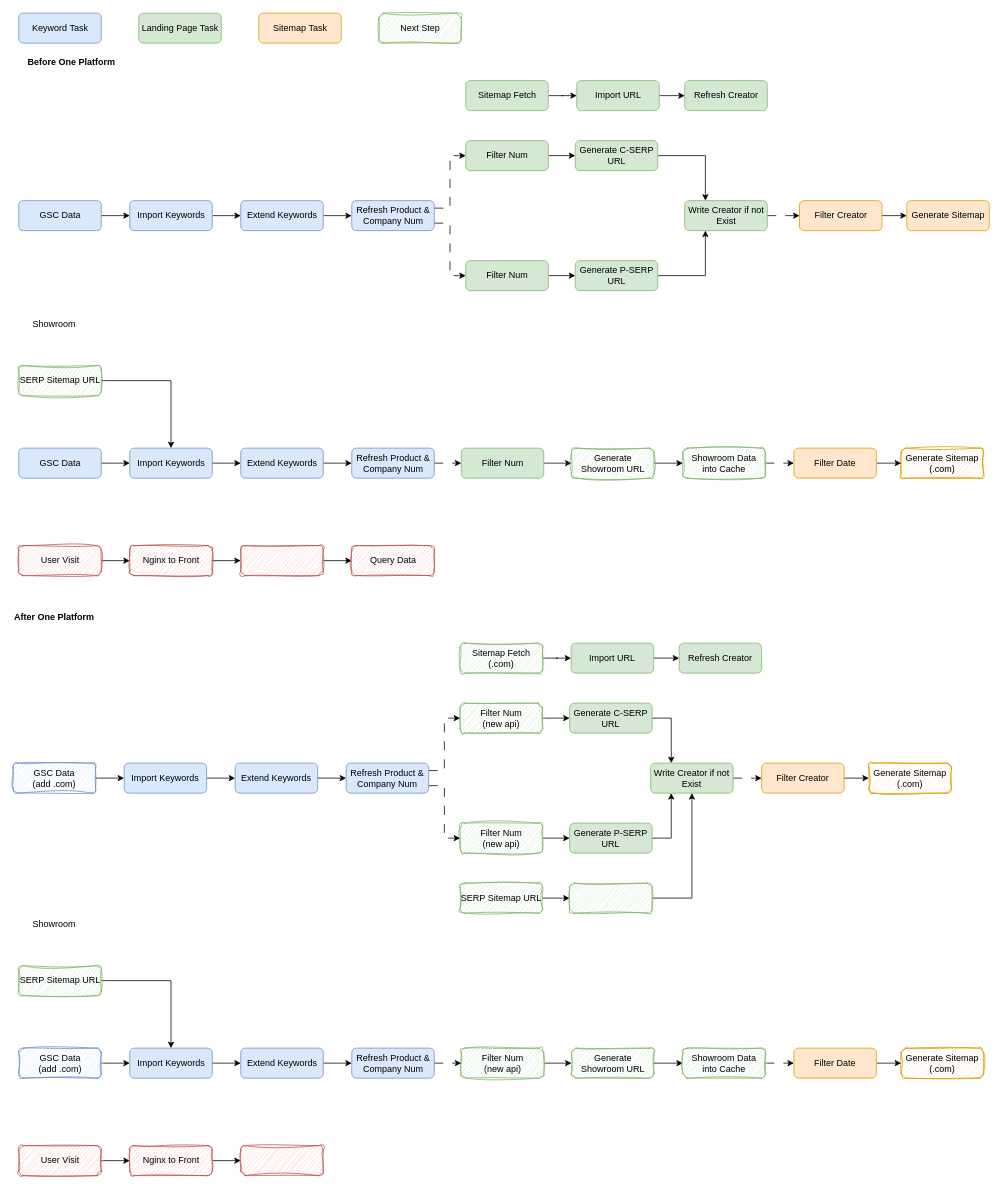
This 1003x1189 diagram has some shape labels left out. The box of each missing label's shape, as (x1, y1, x2, y2) in pixels:
Get Cache Data: (240, 545, 323, 576)
Get Data: (240, 1145, 323, 1176)
Transfer to .com: (569, 882, 652, 913)
